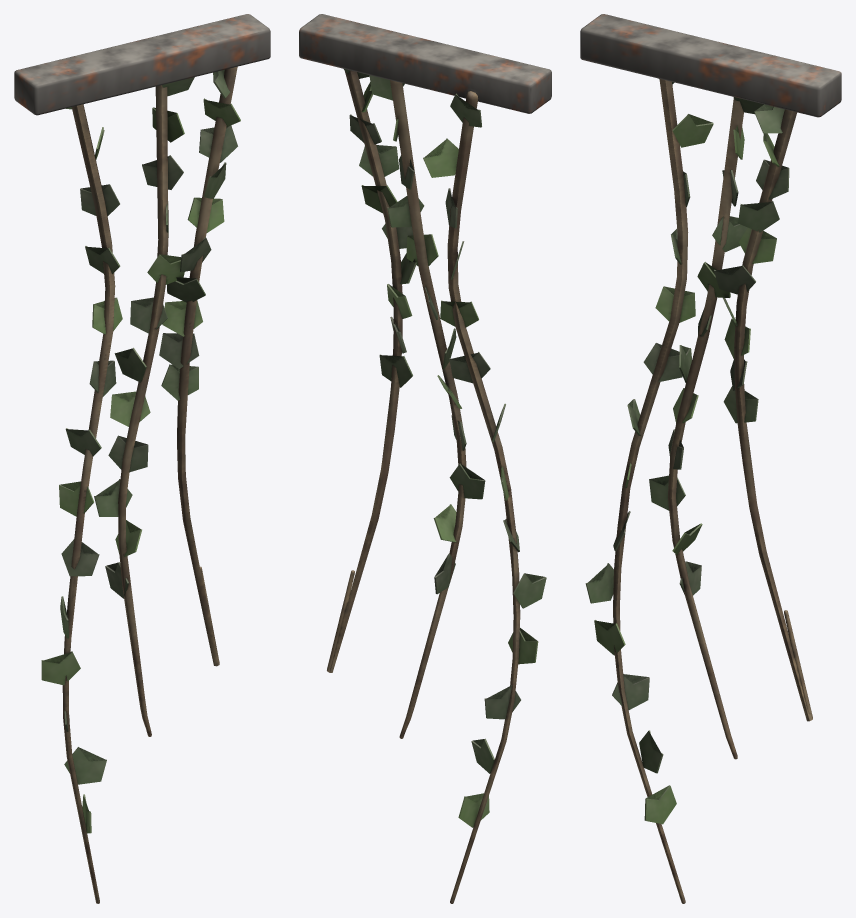
File: vines.fbx
The picture shows the model from 3 angles, left to right: view 1: azimuth 30°, elevation 25°; view 2: azimuth 150°, elevation 25°; view 3: azimuth 330°, elevation 25°; orthographic projection. The views are drawn at different scales.
Parts seen in each view (by area): view 1: Body; view 2: Body; view 3: Body.
Boxes of the visible parts, x1,y1,x2,y2 form: Body: (14, 14, 270, 903); Body: (299, 14, 551, 903); Body: (580, 14, 841, 903).
Bounding box in the file's own units: 2.4 × 8.27 × 0.7884.
1 material, 1 textured.
